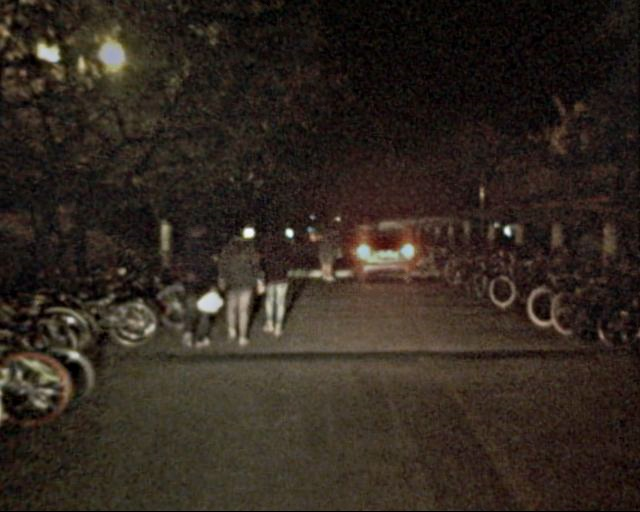person: (175, 209, 219, 347), (256, 219, 294, 338), (222, 230, 258, 346), (316, 225, 342, 282)
